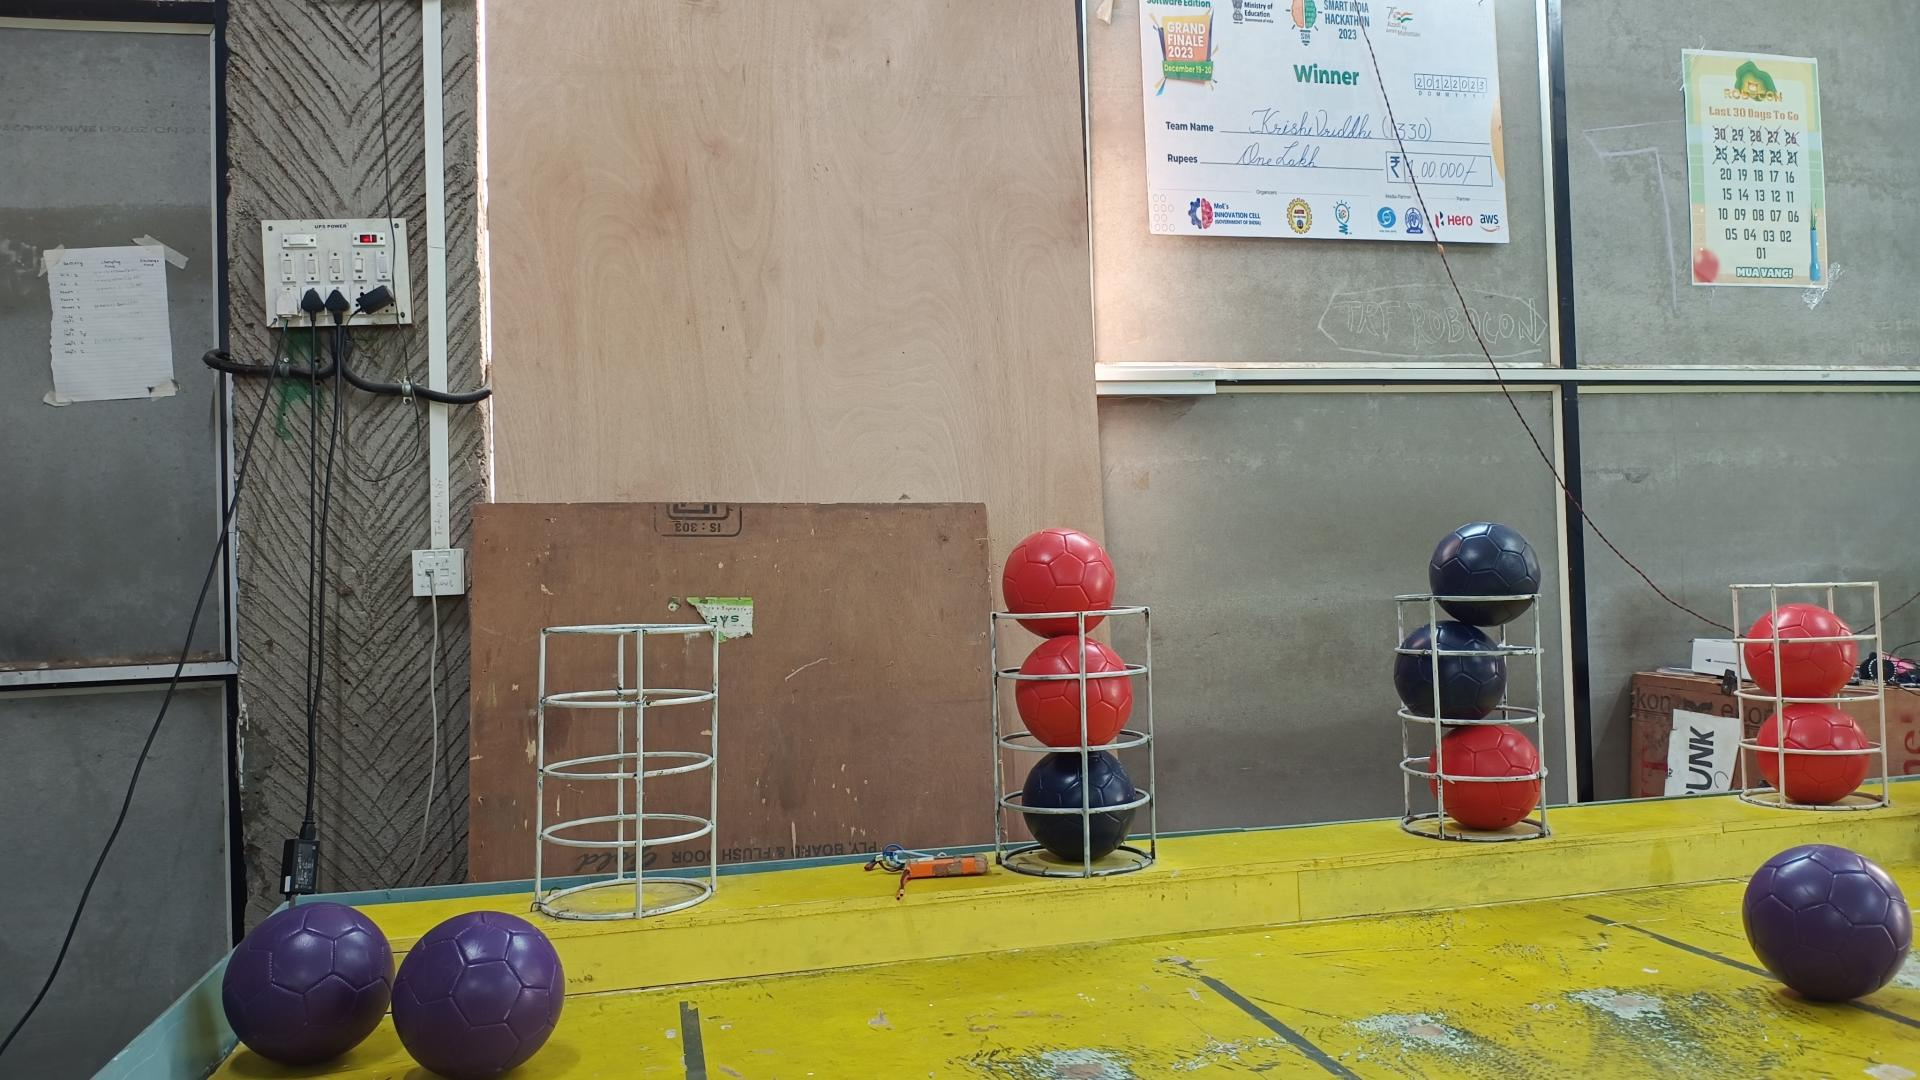dhoka: (1022, 749, 1142, 861), (1395, 618, 1507, 723), (1428, 521, 1542, 622)
laale: (1017, 633, 1133, 749), (1001, 527, 1114, 637), (1428, 724, 1542, 828), (1755, 703, 1871, 804), (1743, 604, 1859, 702)
